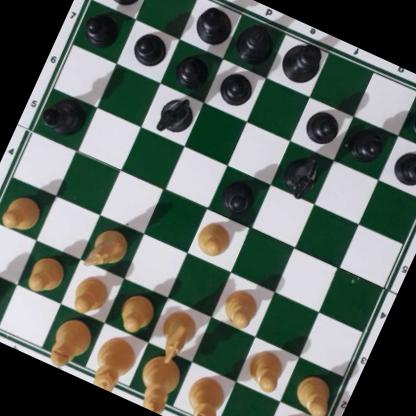black-bishop: (36, 89, 92, 141), (189, 0, 241, 49)
black-king: (275, 32, 331, 90)
black-knight: (278, 148, 327, 202), (153, 90, 199, 138)
black-pawn: (216, 172, 261, 219), (302, 102, 346, 147), (80, 6, 124, 50), (346, 121, 389, 166), (171, 47, 214, 92), (214, 65, 257, 110), (128, 27, 170, 70), (389, 144, 416, 192)
black-queen: (228, 15, 282, 73)
black-rook: (92, 0, 152, 10), (408, 90, 416, 149)
white-bishop: (44, 313, 96, 371), (173, 370, 234, 416)
white-king: (127, 347, 188, 416)
white-knight: (148, 303, 203, 369), (82, 221, 132, 275)
white-pawn: (242, 344, 291, 395), (291, 368, 339, 416), (216, 282, 263, 331), (113, 288, 159, 337), (68, 270, 114, 319), (24, 249, 70, 297), (0, 188, 45, 236), (192, 215, 236, 260)
white-queen: (84, 330, 143, 397)
white-rook: (263, 408, 325, 416), (0, 267, 6, 333)
